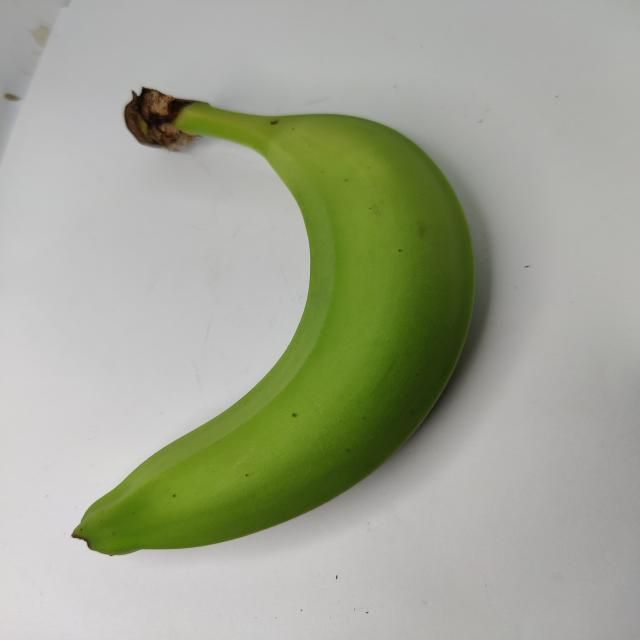raw: (26, 45, 540, 575)
